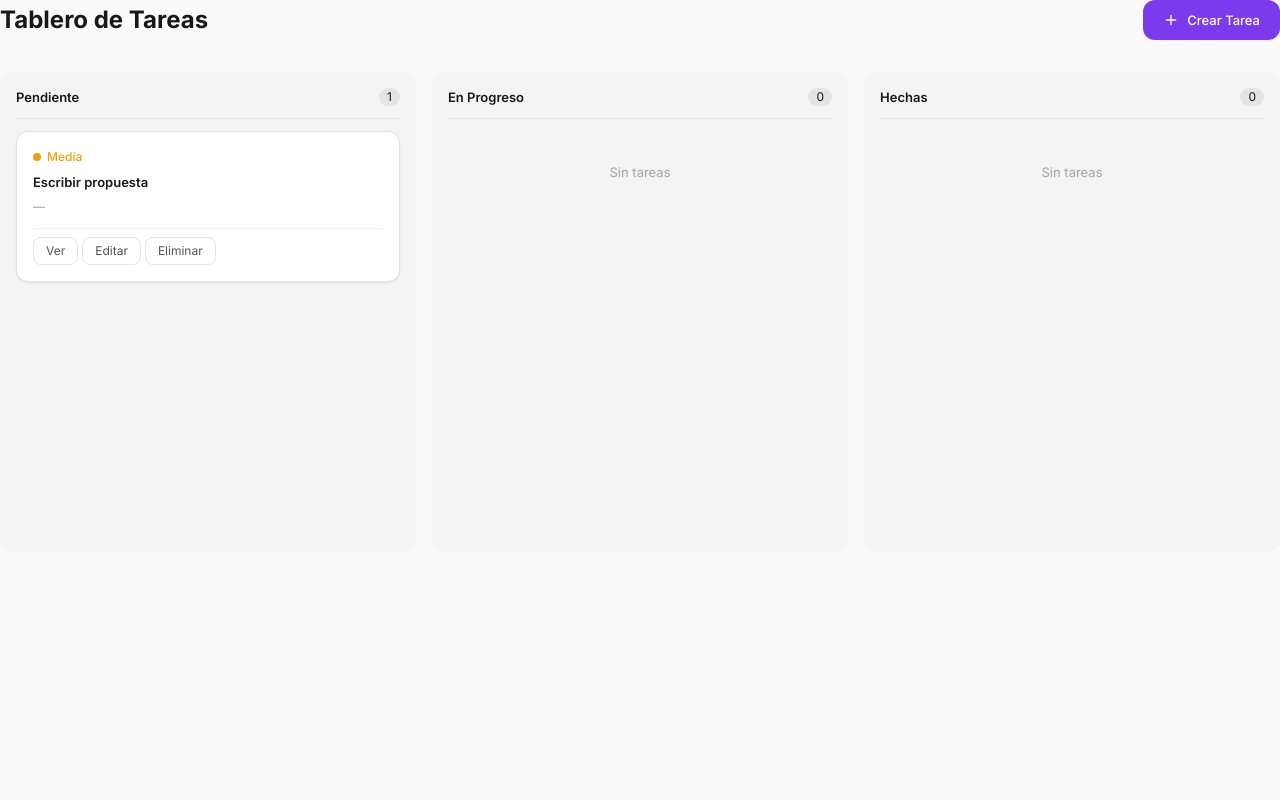
Test: TaskPage — delete confirmation › opens a confirm dialog (not window.confirm) when Eliminar is clicked and does not delete until confirmed
The width and height of the screenshot is (1280, 800).
Click the button "Eliminar": (180, 251) [145, 237, 216, 265]
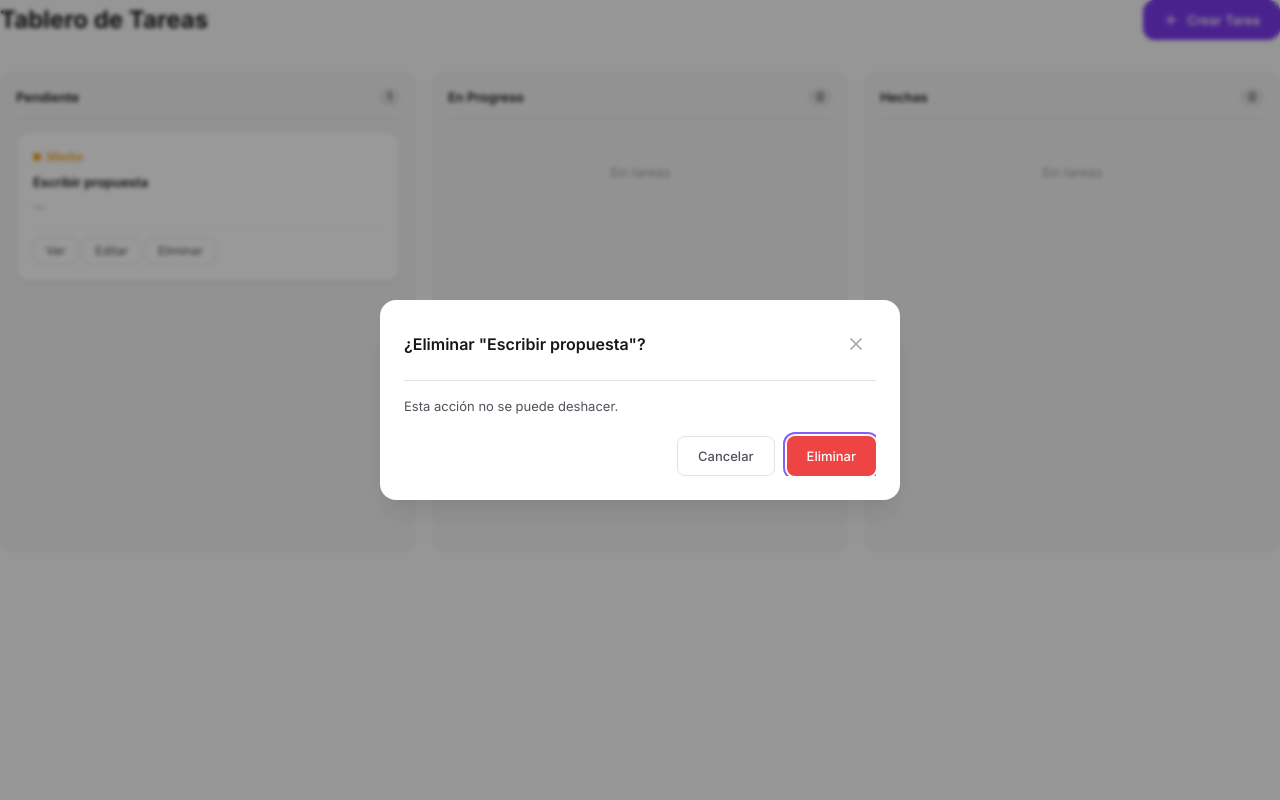
Expected: the dialog is shown, [380, 300, 900, 500]
Expected: the heading "¿Eliminar \"Escribir propuesta\"?" is shown, [404, 334, 646, 354]
